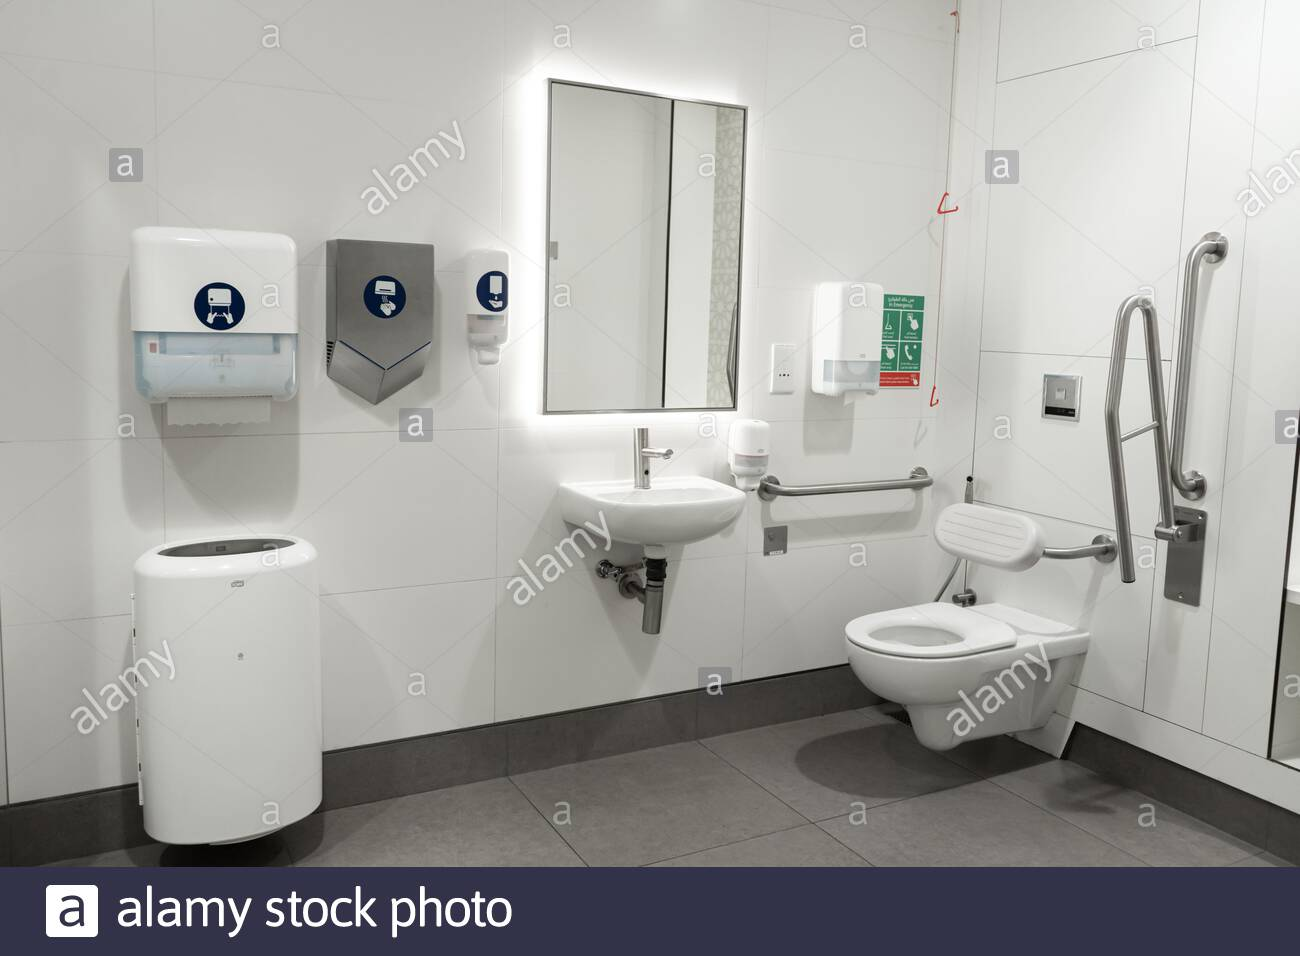dispenser: (125, 221, 306, 443), (322, 233, 438, 407), (811, 278, 886, 409), (459, 245, 513, 373), (726, 415, 773, 496)
faucet: (630, 424, 674, 489)
restroom_assist_bar: (1073, 211, 1229, 595), (762, 469, 937, 505)
sink: (561, 474, 745, 636)
toilet: (843, 605, 1091, 750)
waste_bin: (125, 532, 328, 849)
